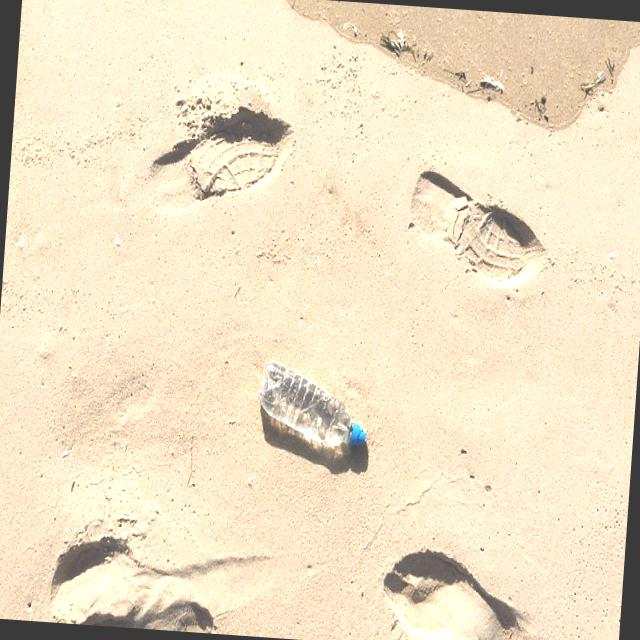Recycle: (251, 353, 373, 464)
